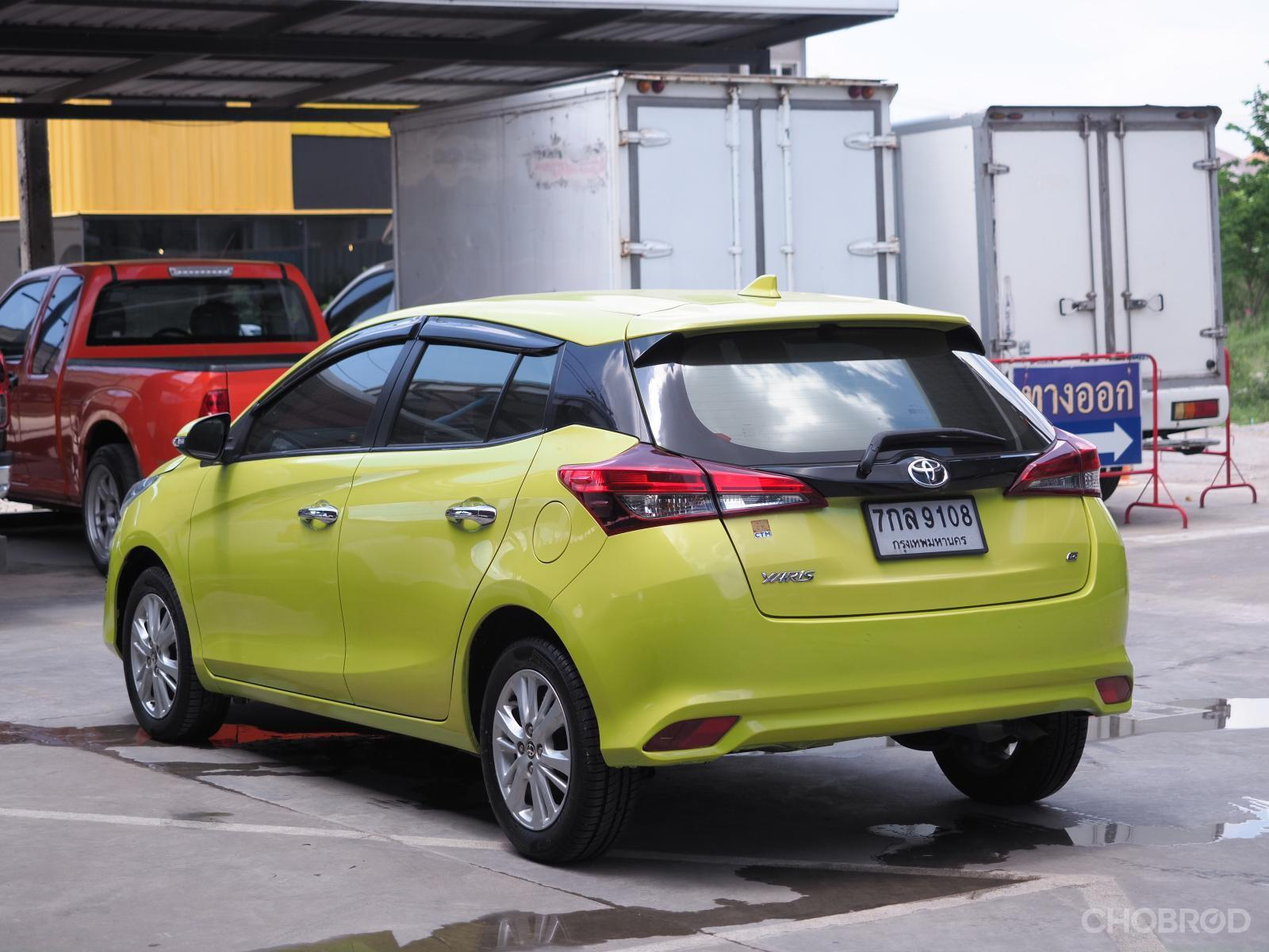license-plate: (856, 487, 996, 566)
